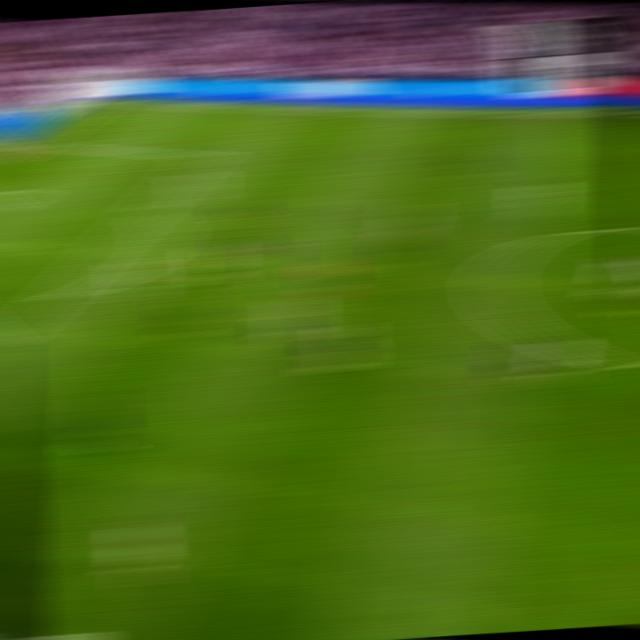bigarea_top_inner: (190, 150, 220, 161)
bigarea_top_outter: (18, 136, 50, 150)
bottom_arc_area_intersection: (37, 287, 72, 306)
corner: (84, 96, 118, 106)
smallarea_top_inner: (7, 186, 40, 200)
top_arc_area_intersection: (132, 203, 162, 216)
